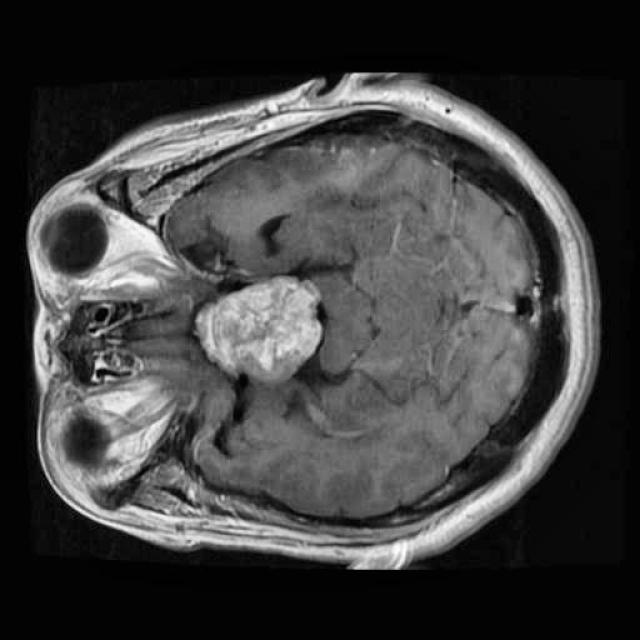Tumor: (181, 268, 338, 399)
